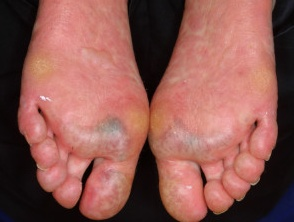SJS-TEN: (13, 0, 159, 222), (151, 0, 276, 221)
